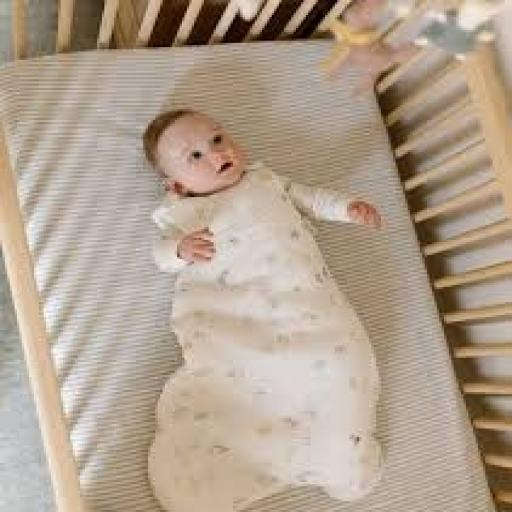baby: (144, 112, 380, 511)
crib: (0, 0, 511, 511)
